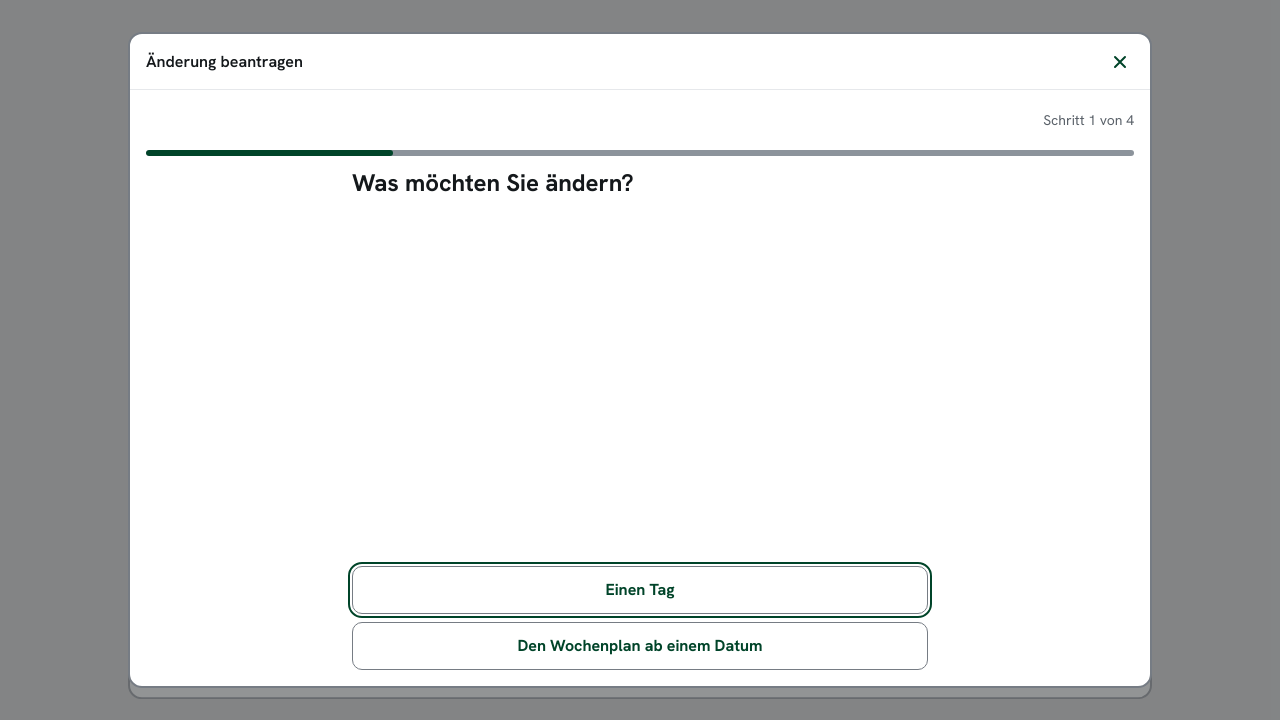
Scenario: RequestWorkingTimePage › lädt die bisherigen Zeiten nach einem Funkloch mit „Erneut versuchen“ (Regel 8)
Click the button "Einen Tag" at [640, 590], box [352,566,928,614]
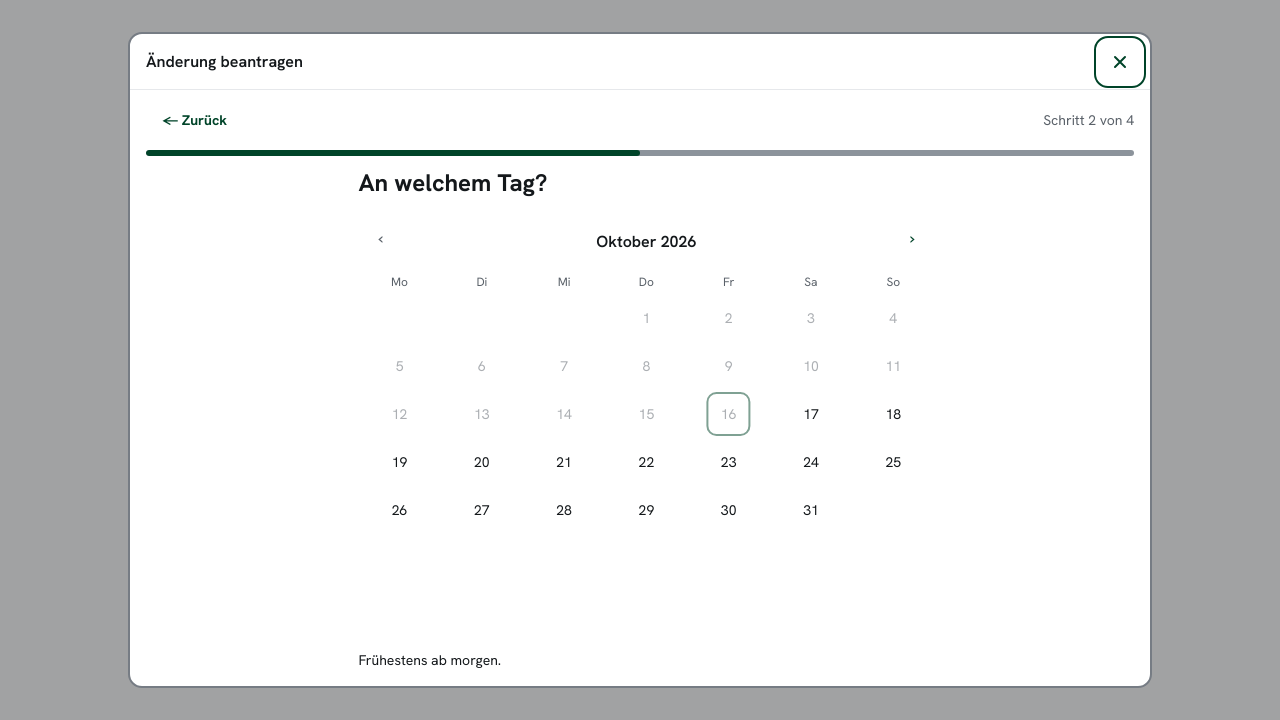
Click the button "20" at [477, 462], box [455,440,499,484]
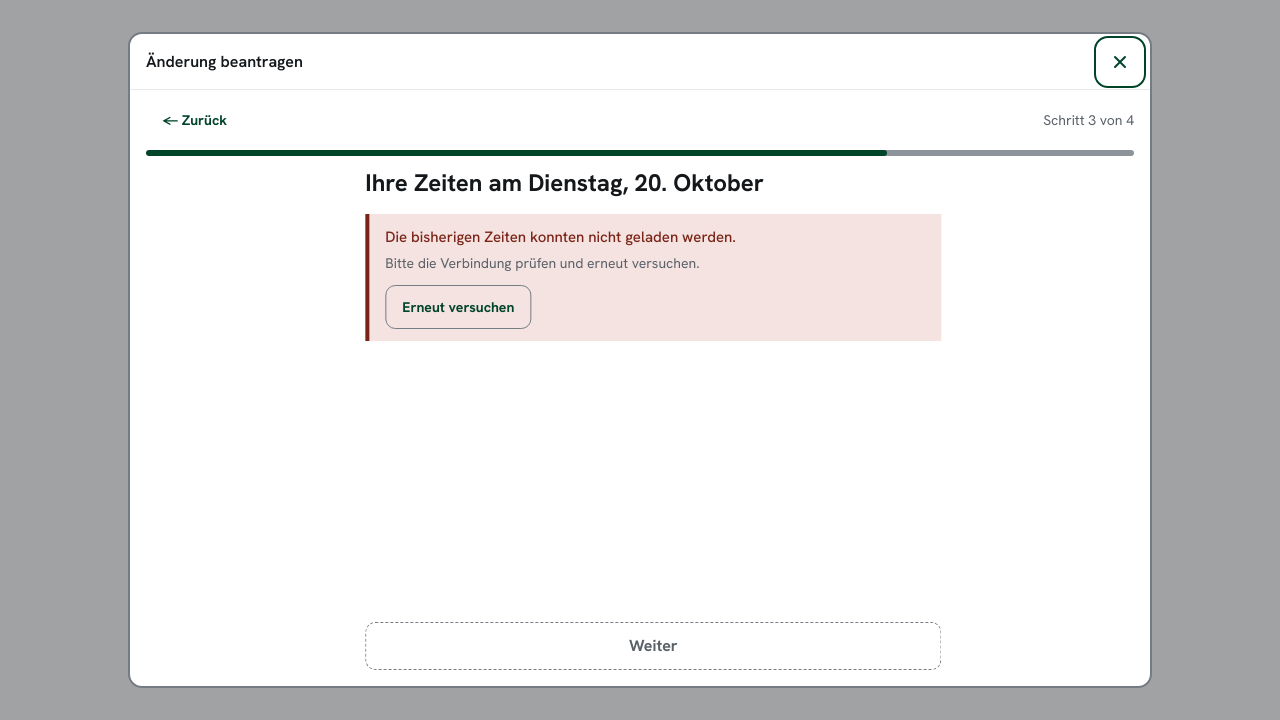
Expected: the text "Die bisherigen Zeiten konnten nicht geladen werden." is shown, [374,227,725,247]
Expected: the button "Weiter" is disabled, [354,622,930,670]
Click the button "Erneut versuchen" at [448, 306], box [374,284,520,328]
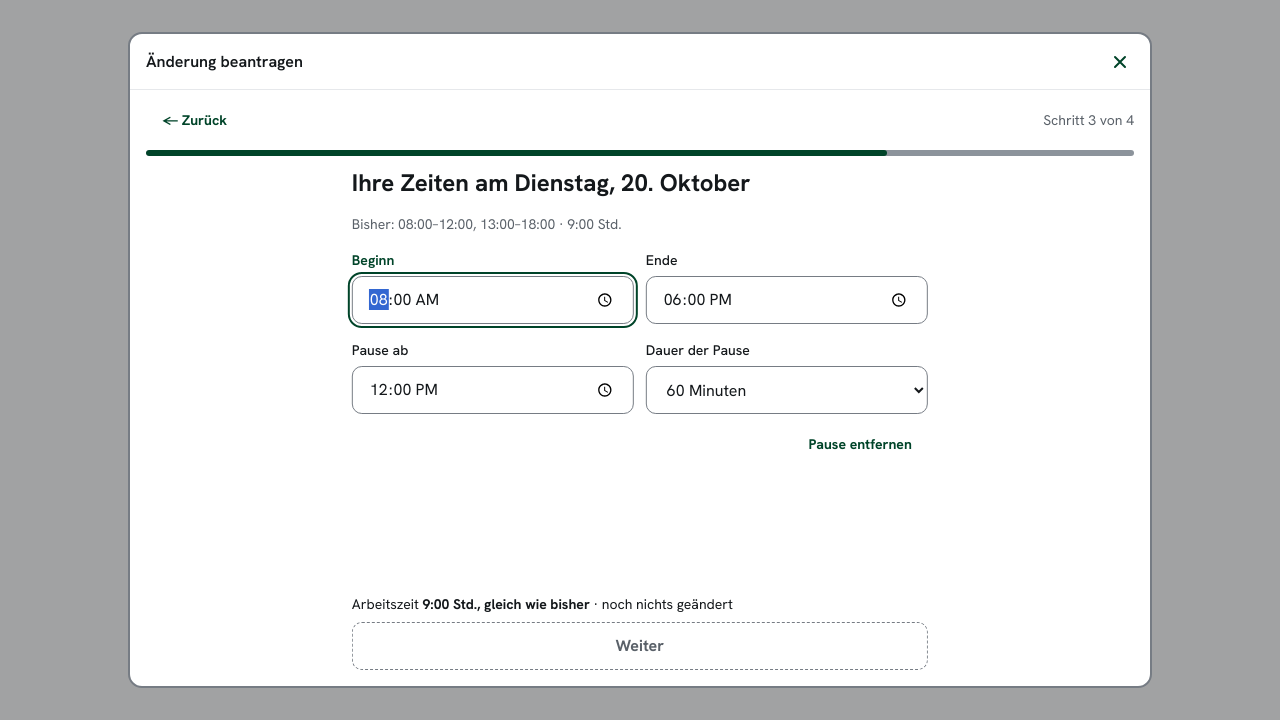
Expected: the text "Bisher: 08:00–12:00, 13:00–18:00 · 9:00 Std." is shown, [352,215,622,233]
Expected: the time field labelled "Beginn" holds "08:00", [352,276,634,324]
